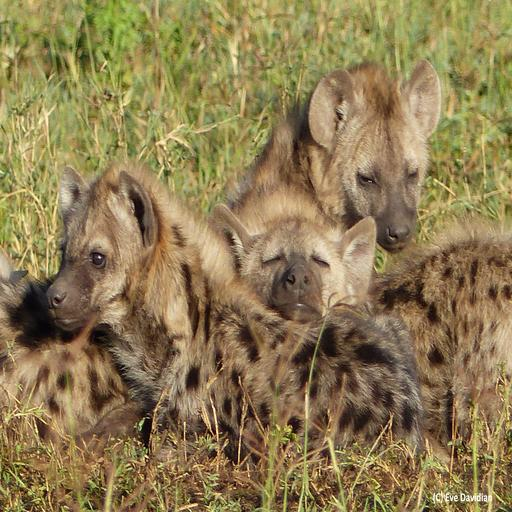Hyena: (0, 43, 438, 456), (52, 174, 458, 457), (203, 204, 512, 449)
